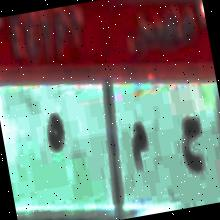5: (42, 107, 74, 166)
7aa: (173, 102, 210, 184)
meem: (118, 111, 156, 182)
